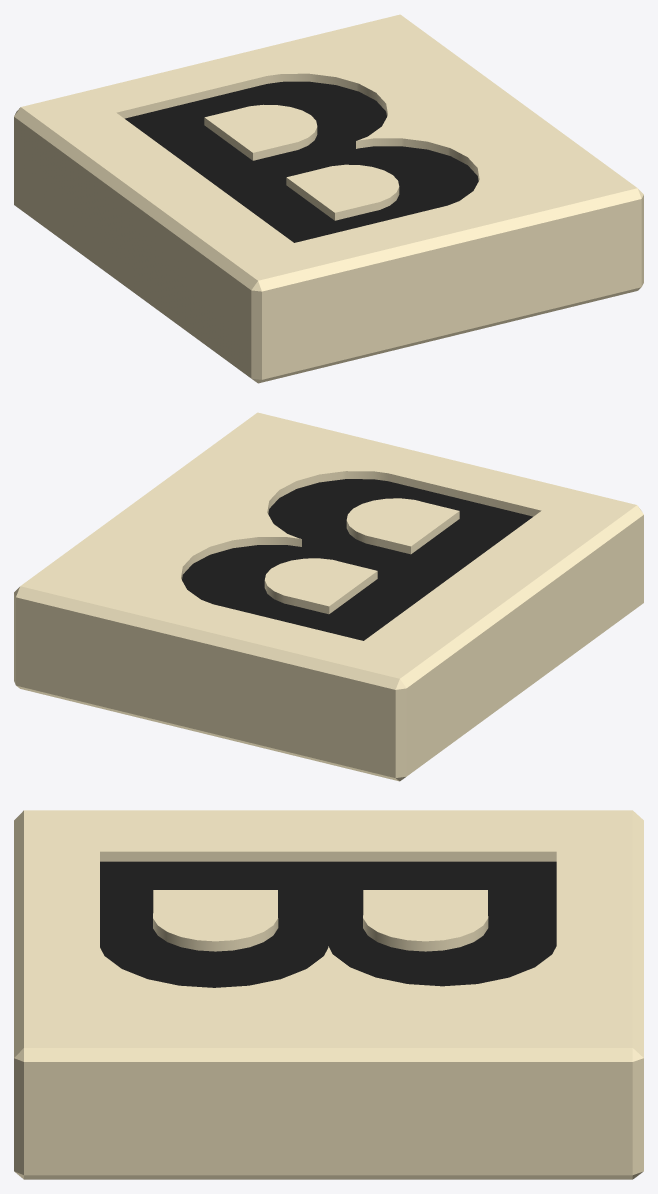
The model's file is Game_Anagram_Tile_B_01.fbx.
The picture shows the model from 3 angles, top to bottom: view 1: azimuth 30°, elevation 25°; view 2: azimuth 150°, elevation 25°; view 3: azimuth 270°, elevation 25°; orthographic projection. The views are drawn at different scales.
Parts seen in each view (by area): view 1: Model; view 2: Model; view 3: Model.
Part boxes in pixels (<box>): Model: <box>14,14,643,383</box>; Model: <box>14,412,643,781</box>; Model: <box>14,810,643,1179</box>.
Bounding box in the file's own units: 463 × 116 × 502.
